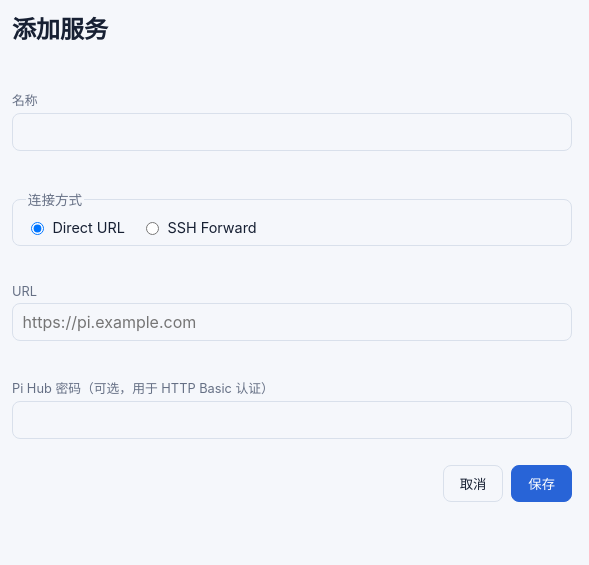
Test case: ServiceFormPage › validates required fields and blocks submit
The image size is (589, 565).
Click the button "保存" at (542, 484), box x1=511 y1=465 x2=572 y2=502
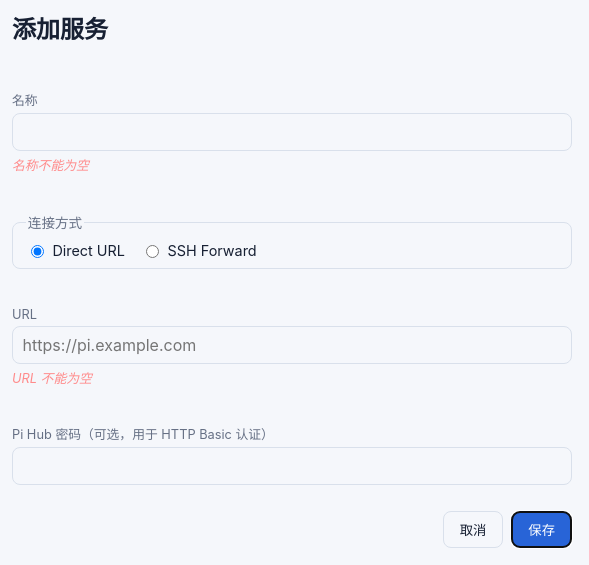
Result: the text "名称不能为空" is shown at x1=12 y1=158 x2=89 y2=173
